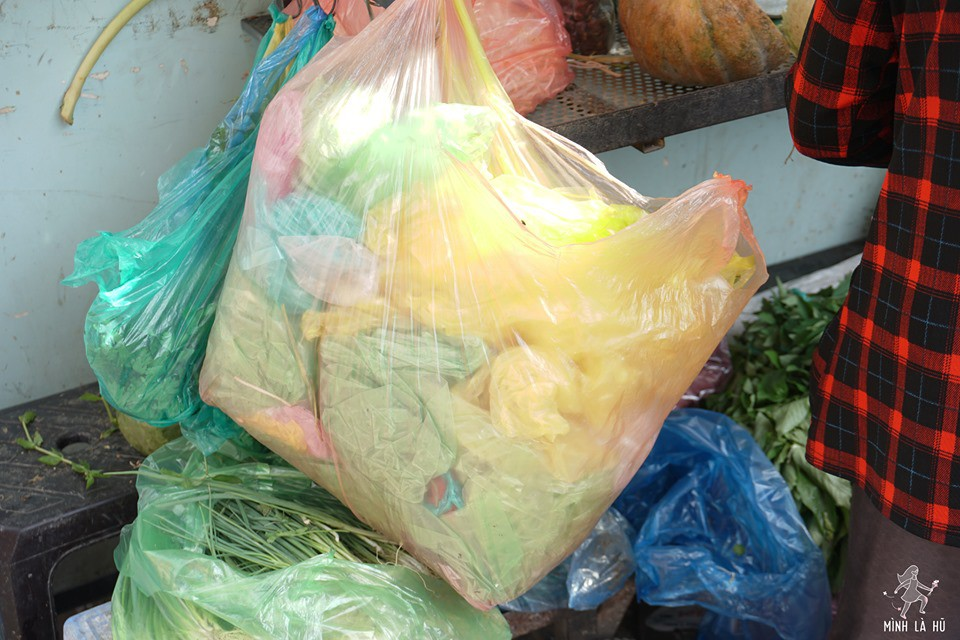plastic bag: (63, 1, 832, 640), (198, 3, 770, 612)
